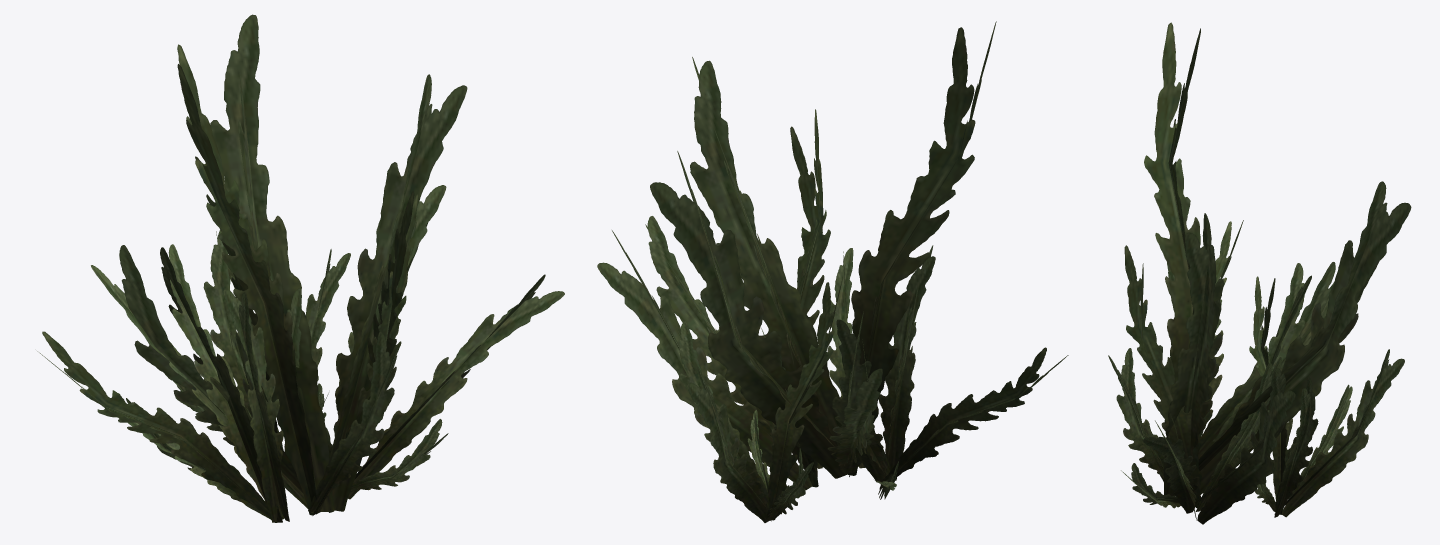
Rendered from S_Plant_Sea003.FBX.
3 renders of one model, left to right at view 1: azimuth 30°, elevation 25°; view 2: azimuth 150°, elevation 25°; view 3: azimuth 270°, elevation 25°, orthographic. The views are drawn at different scales.
Visible parts, largest first — view 1: S_Plant_Sea003; view 2: S_Plant_Sea003; view 3: S_Plant_Sea003.
Boxes of the visible parts, bbox=[...] form: S_Plant_Sea003: bbox=[37, 14, 564, 522]; S_Plant_Sea003: bbox=[597, 21, 1068, 522]; S_Plant_Sea003: bbox=[1108, 22, 1411, 524].
Size of the model in its own units: 171 by 112 by 167.
